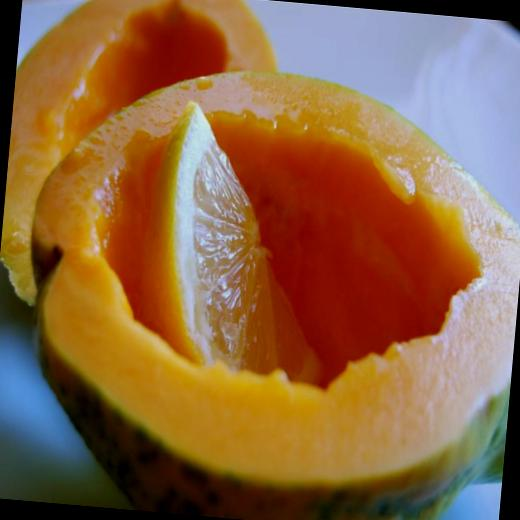Grape: (132, 98, 344, 388)
